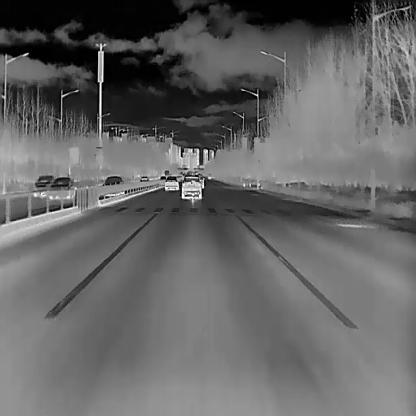car: (47, 175, 75, 200), (32, 174, 54, 197), (182, 174, 202, 199), (101, 175, 123, 185), (164, 175, 178, 190)
